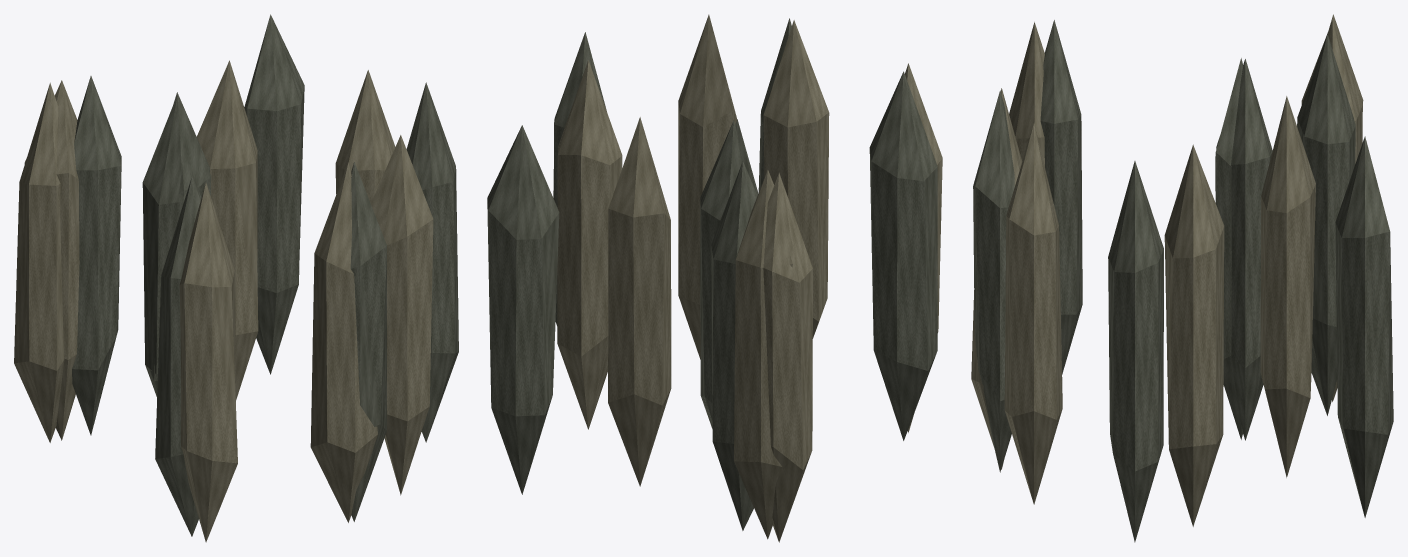
The model's file is pebble_cluster_01.fbx.
3 views of the same model, side by side, from view 1: azimuth 30°, elevation 25°; view 2: azimuth 150°, elevation 25°; view 3: azimuth 270°, elevation 25° (orthographic). The views are drawn at different scales.
Visible parts, largest first — view 1: pebble_cluster_01_LOD0; view 2: pebble_cluster_01_LOD0; view 3: pebble_cluster_01_LOD0.
Boxes of the visible parts, box(x1,y1,x2,y2) form: pebble_cluster_01_LOD0: box(14, 14, 458, 542); pebble_cluster_01_LOD0: box(487, 14, 942, 542); pebble_cluster_01_LOD0: box(971, 14, 1393, 542).
Size of what is drawn, in the model's own units: 1 by 1 by 1.
